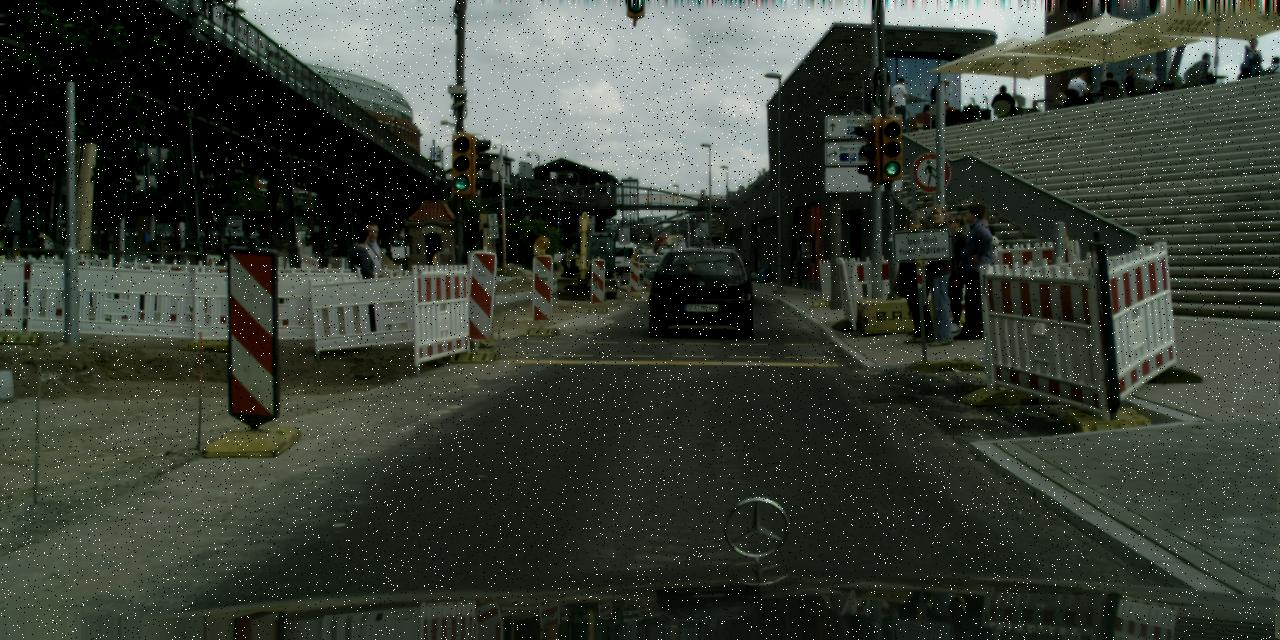ped: (911, 204, 969, 345), (944, 200, 1000, 340), (893, 212, 946, 342), (961, 208, 1008, 324), (931, 212, 976, 326), (349, 223, 392, 329), (340, 227, 382, 330), (889, 76, 911, 132), (1242, 38, 1262, 88), (930, 77, 950, 126), (478, 223, 496, 268), (276, 246, 284, 270)
